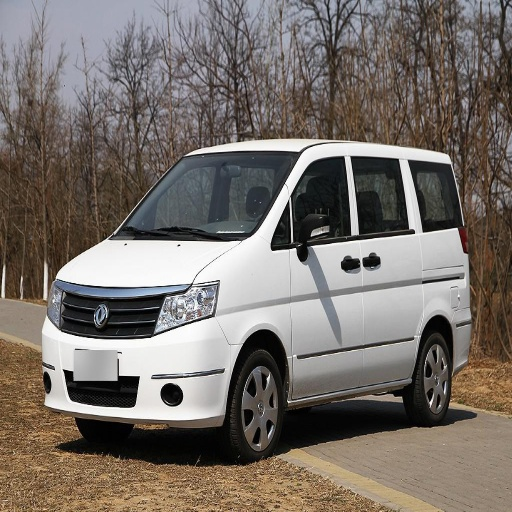front_bumper: (41, 281, 242, 426)
front_glass: (112, 154, 299, 239)
front_left_door: (279, 153, 370, 396)
trunk: (421, 248, 467, 338)
